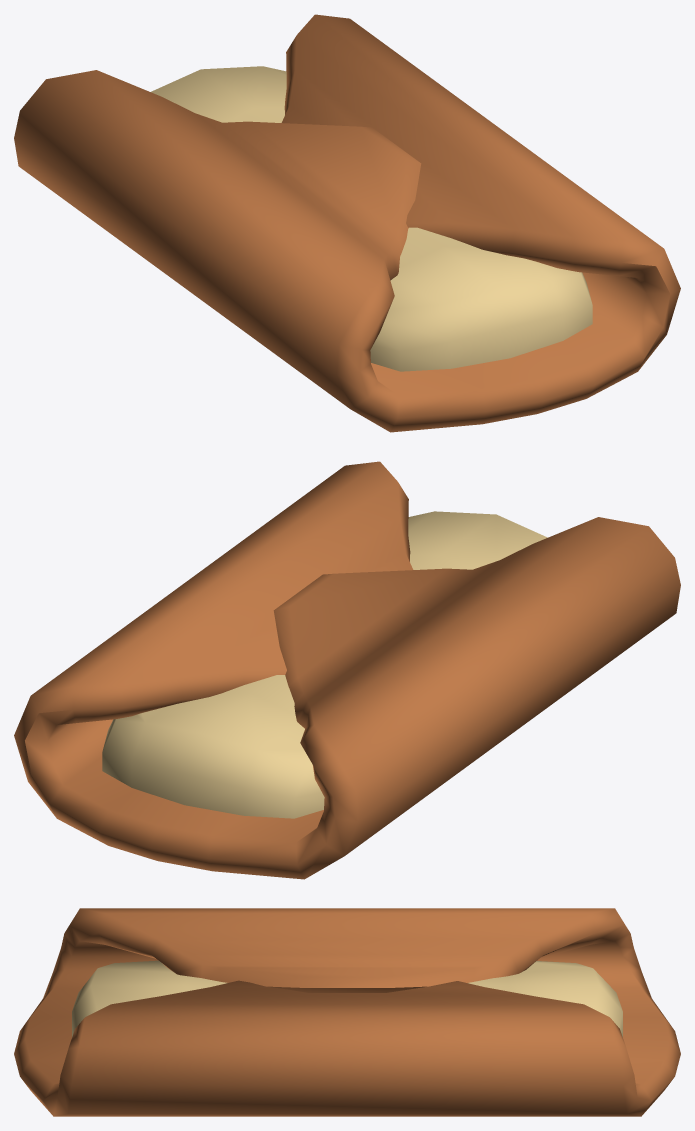
The model's file is MoscowBun_01.fbx.
3 views of the same model, one above another, from view 1: azimuth 30°, elevation 25°; view 2: azimuth 150°, elevation 25°; view 3: azimuth 270°, elevation 25° (orthographic). The views are drawn at different scales.
Parts seen in each view (by area): view 1: MoscowBun_01; view 2: MoscowBun_01; view 3: MoscowBun_01.
Part boxes in pixels (bbox=[...]): MoscowBun_01: bbox=[14, 14, 680, 432]; MoscowBun_01: bbox=[14, 461, 680, 879]; MoscowBun_01: bbox=[14, 908, 680, 1116].
Size of the model in its own units: 0.0646 by 0.0231 by 0.1271.
